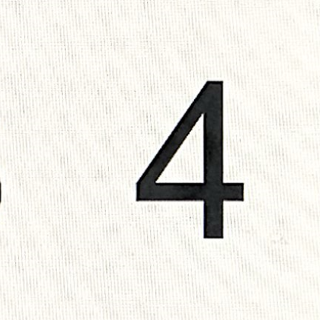four: (124, 74, 252, 244)
